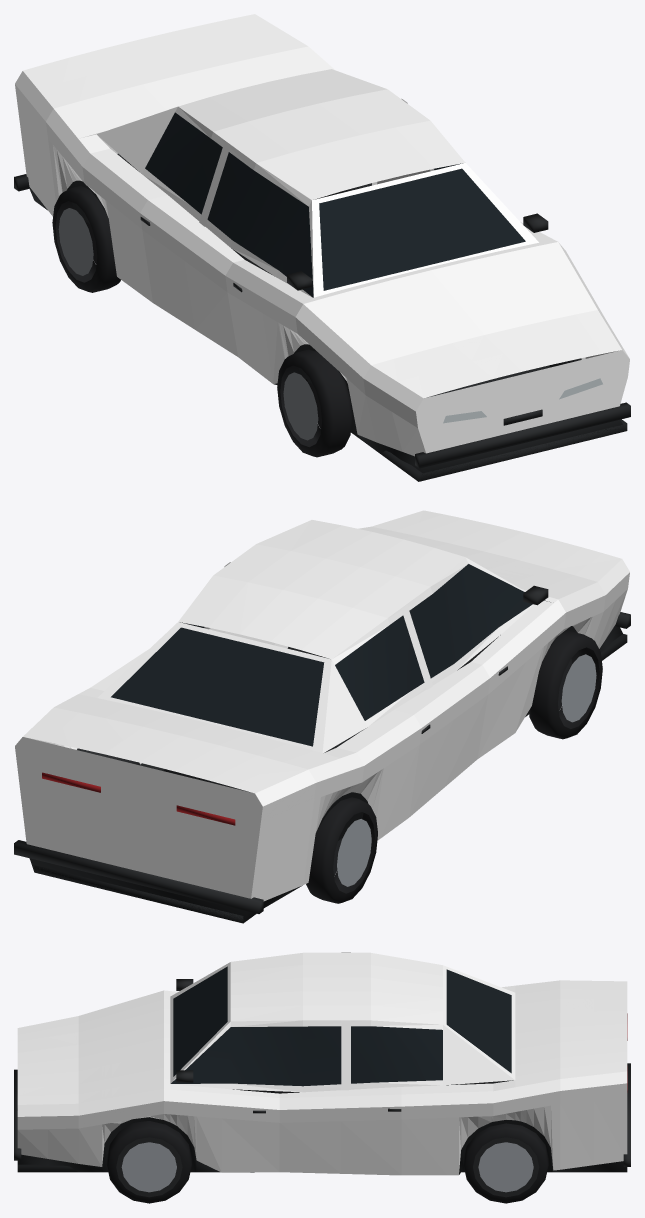
File: ostwerk_lastro.glb
The picture shows the model from 3 angles, top to bottom: view 1: azimuth 30°, elevation 25°; view 2: azimuth 150°, elevation 25°; view 3: azimuth 270°, elevation 25°; orthographic projection. The views are drawn at different scales.
Visible parts, largest first — view 1: Body_Paint, Body_Details, Mount_FrontLeft_Wheel_Details, Mount_RearLeft_Wheel_Details; view 2: Body_Paint, Body_Details, Mount_FrontLeft_Wheel_Details, Mount_RearLeft_Wheel_Details; view 3: Body_Paint, Body_Details, Mount_FrontRight_Wheel_Details, Mount_RearRight_Wheel_Details.
Boxes of the visible parts, x1,y1,x2,y2 form: Body_Paint: (15, 14, 629, 456); Body_Details: (14, 112, 630, 481); Mount_FrontLeft_Wheel_Details: (277, 349, 352, 457); Mount_RearLeft_Wheel_Details: (52, 186, 120, 292); Body_Paint: (15, 510, 629, 901); Body_Details: (14, 564, 630, 923); Mount_FrontLeft_Wheel_Details: (528, 630, 602, 739); Mount_RearLeft_Wheel_Details: (306, 797, 377, 903); Body_Paint: (17, 952, 627, 1175); Body_Details: (14, 966, 630, 1174); Mount_FrontRight_Wheel_Details: (106, 1121, 191, 1203); Mount_RearRight_Wheel_Details: (463, 1123, 548, 1203).
Size of the model in its own units: 1.97 by 1.41 by 4.7.
2 materials, 1 textured.
